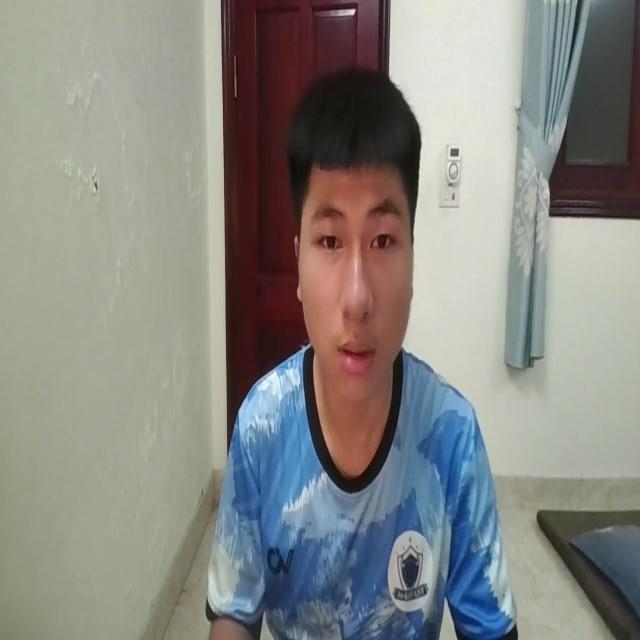student: (191, 58, 515, 640)
